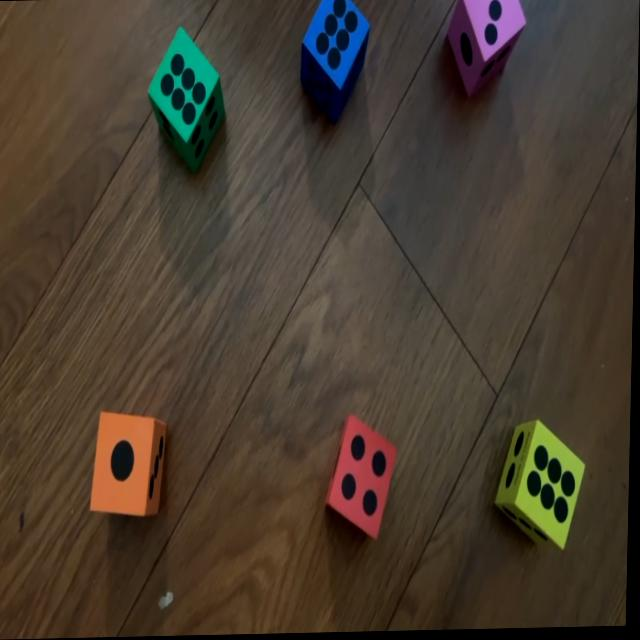blue_block: (300, 0, 370, 114)
red_block: (328, 411, 400, 540)
